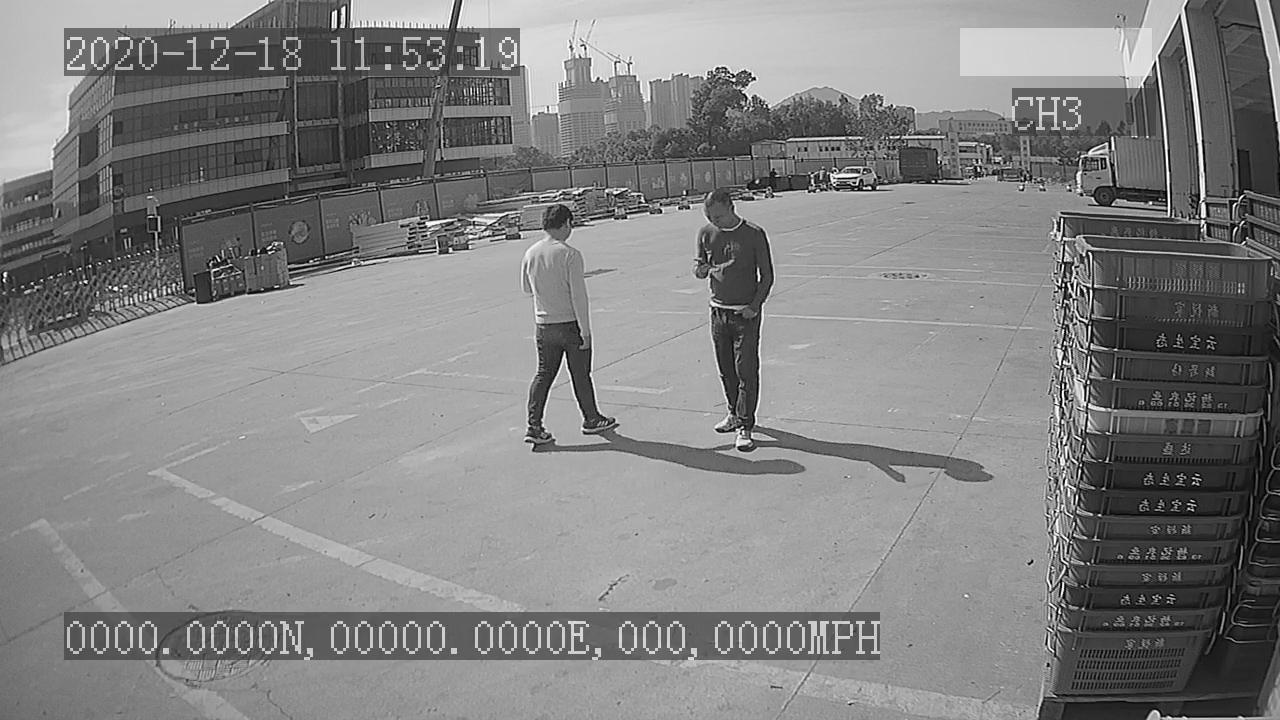person: (508, 199, 622, 451), (683, 181, 781, 460)
